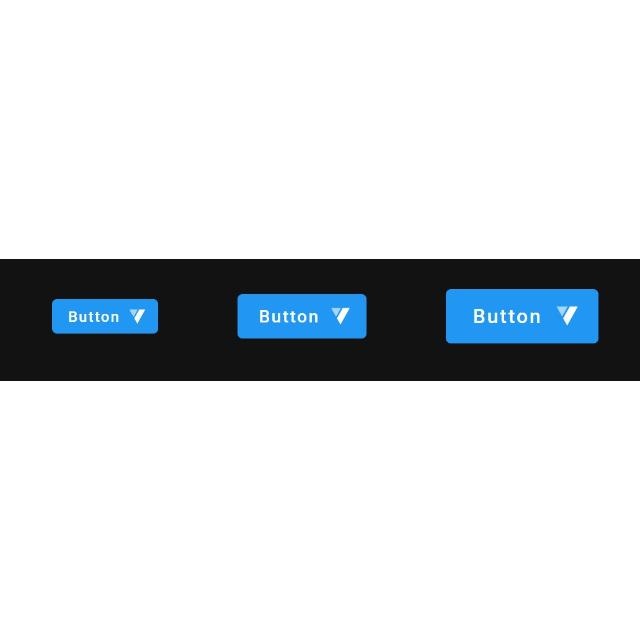QLabel: (471, 310, 541, 324), (258, 310, 320, 324), (68, 312, 120, 322)
VBtn: (444, 288, 600, 346), (237, 294, 367, 340), (52, 299, 158, 335)
VIcon: (556, 306, 580, 326), (330, 307, 350, 325), (128, 309, 146, 325)
